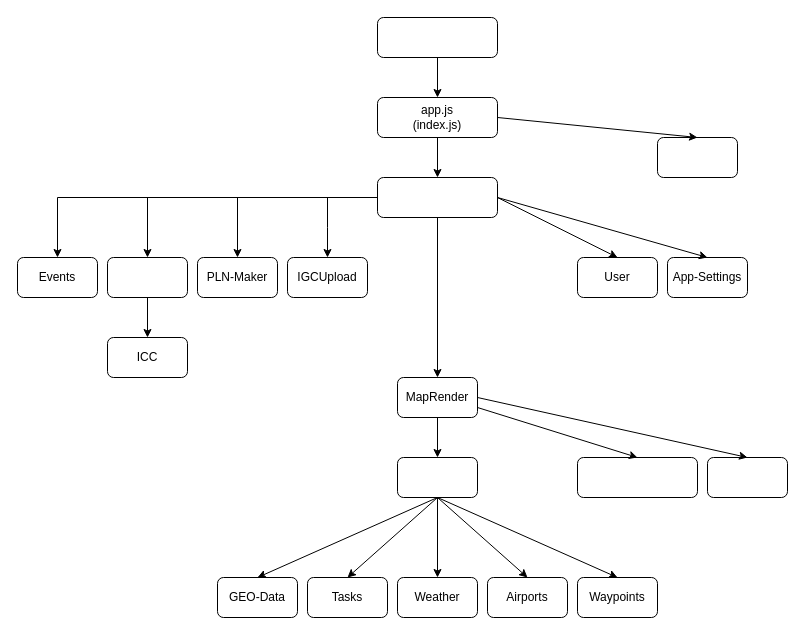
The diagram is 805 pixels wide and 635 high, and some of its shapes have lost their labels. Each missing label, with the box of its shape:
Banner: (656, 136, 738, 178)
index.html: (376, 16, 498, 58)
Map: (396, 456, 478, 498)
Render-Utils (circle,line, etc): (576, 456, 698, 498)
Taskbrowser: (376, 176, 498, 218)
TOP: (106, 256, 188, 298)
Utils (time): (706, 456, 788, 498)
